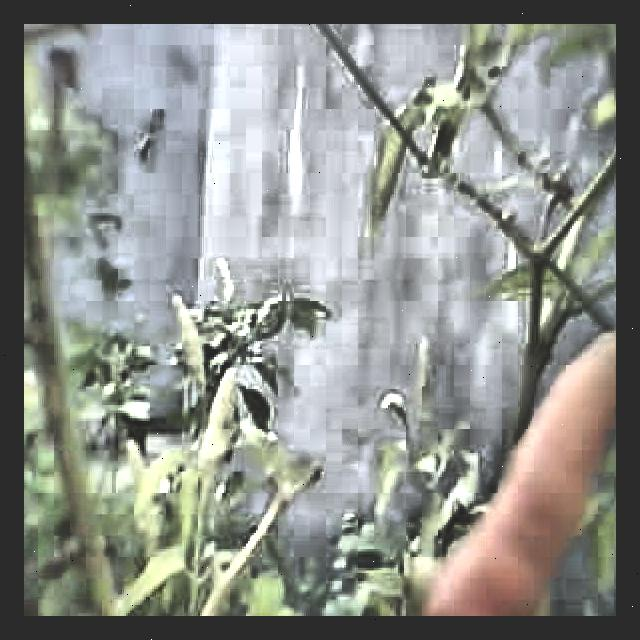Cabai: (426, 322, 616, 616)
